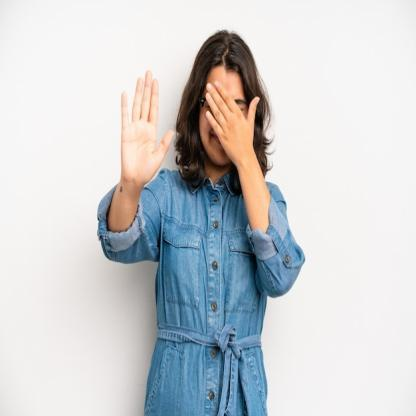stop: (120, 64, 176, 187)
